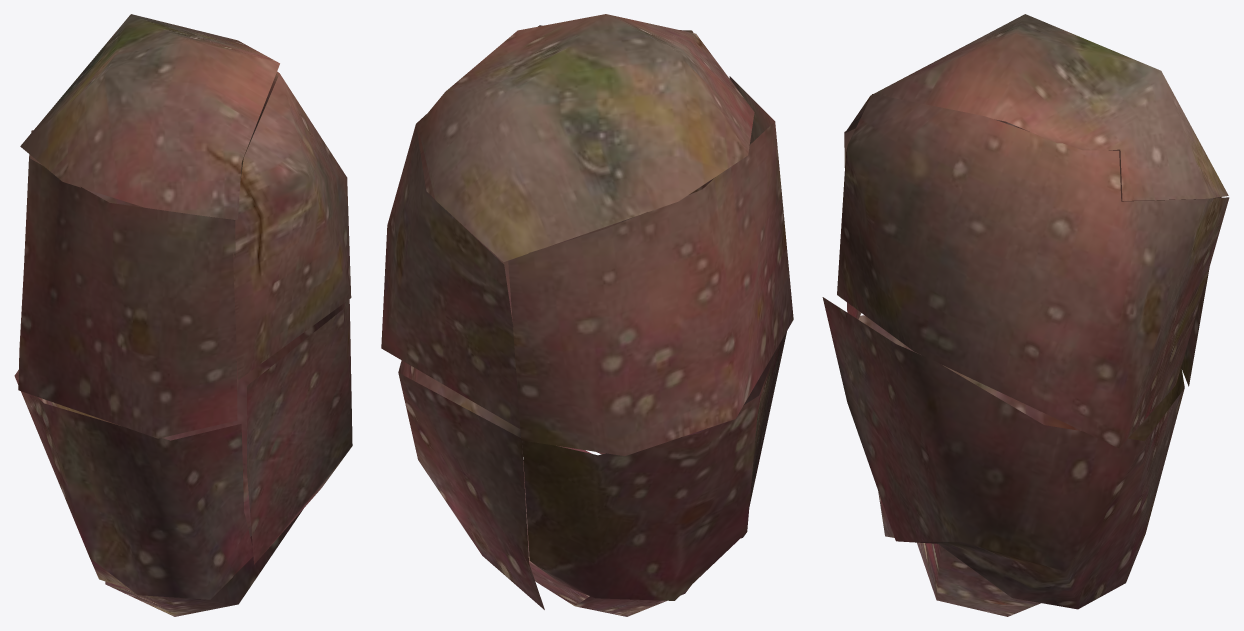
The model's file is ph_sweet_potato.glb.
3 views of the same model, side by side, from view 1: azimuth 30°, elevation 25°; view 2: azimuth 150°, elevation 25°; view 3: azimuth 270°, elevation 25° (orthographic). The views are drawn at different scales.
Visible parts, largest first — view 1: sweet_potato; view 2: sweet_potato; view 3: sweet_potato.
Part boxes in pixels (left/top/right/bottom): sweet_potato: left=14, top=14, right=352, bottom=616; sweet_potato: left=381, top=14, right=793, bottom=616; sweet_potato: left=822, top=14, right=1229, bottom=616.
Bounding box in the file's own units: 0.0582 × 0.1024 × 0.064.
1 material, 1 textured.
